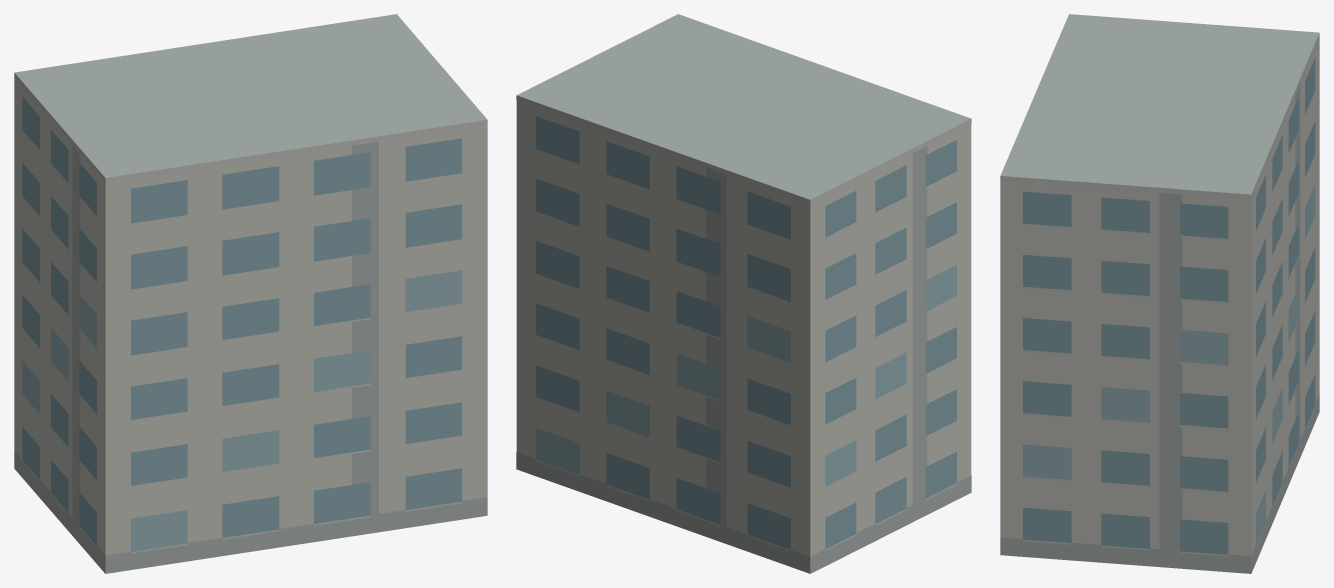
File: survey-upis-32543980.glb
3 renders of one model, left to right at view 1: azimuth 30°, elevation 25°; view 2: azimuth 150°, elevation 25°; view 3: azimuth 270°, elevation 25°, orthographic. The views are drawn at different scales.
Visible parts, largest first — view 1: survey-upis-32543980.tmp; view 2: survey-upis-32543980.tmp; view 3: survey-upis-32543980.tmp.
Part boxes in pixels (x1,y1,x2,y2): survey-upis-32543980.tmp: [14, 14, 487, 573]; survey-upis-32543980.tmp: [516, 14, 971, 573]; survey-upis-32543980.tmp: [1000, 14, 1319, 573].
Size of the model in its own units: 18.7 by 18.3 by 13.97.
